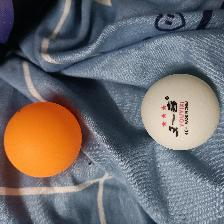WhiteBall: (140, 72, 220, 150)
YellowBall: (2, 100, 82, 178)
